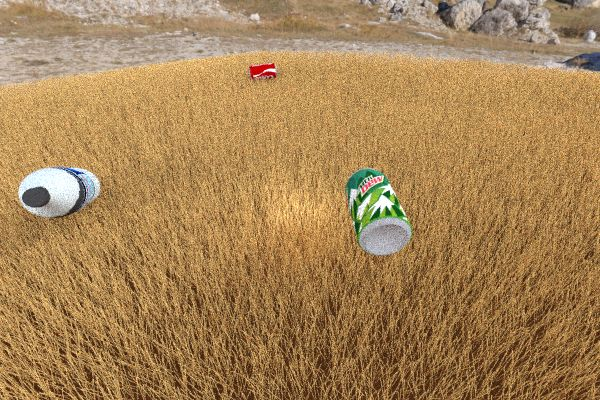bottle: (18, 166, 100, 217)
can: (344, 167, 412, 255), (248, 62, 276, 80)
